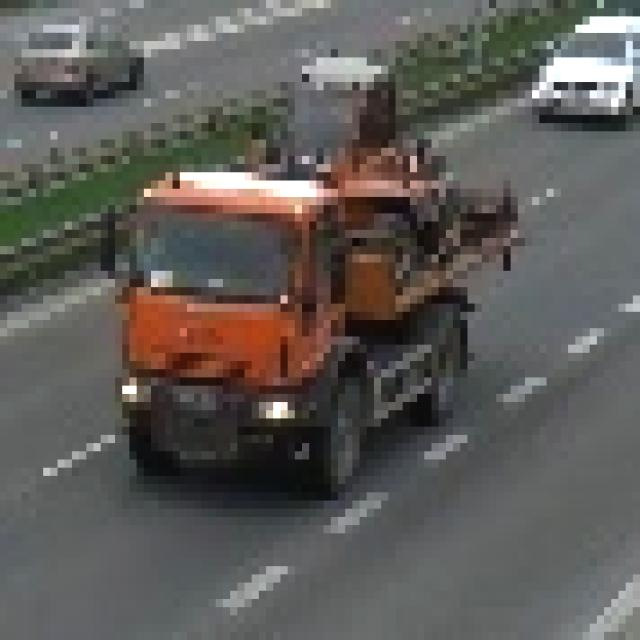truck: (94, 42, 526, 493)
